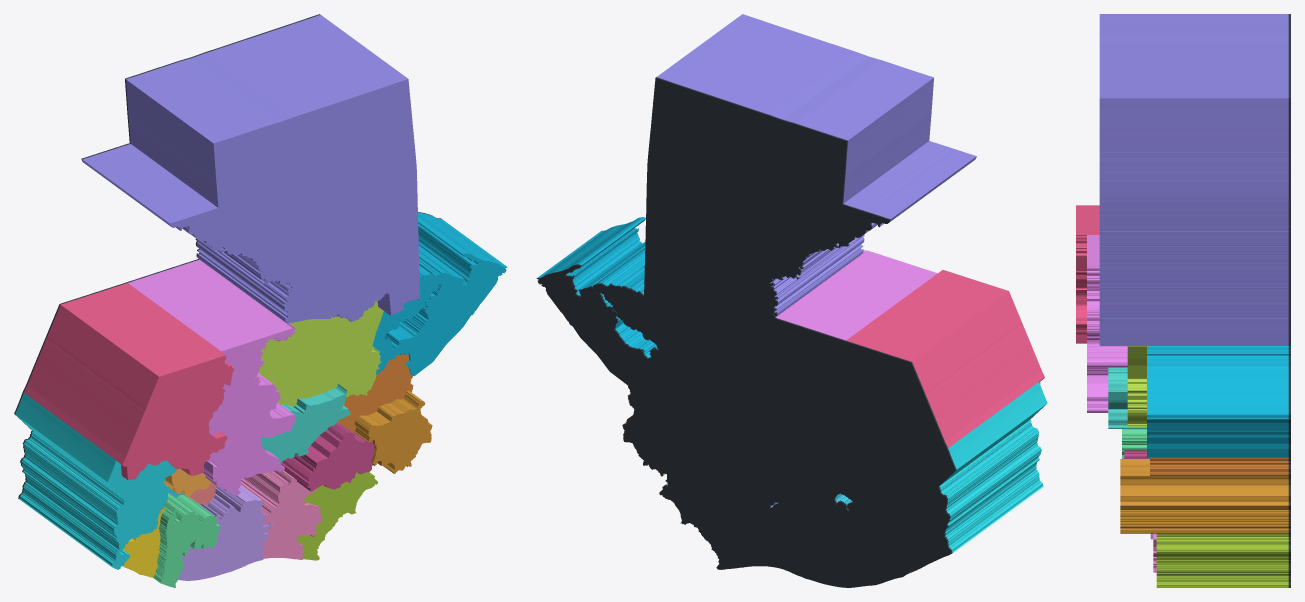
File: modelo_3d_indice_vulnerabilidad_ivst_multicolor.glb
The picture shows the model from 3 angles, left to right: view 1: azimuth 30°, elevation 25°; view 2: azimuth 150°, elevation 25°; view 3: azimuth 270°, elevation 25°; orthographic projection. The views are drawn at different scales.
Parts seen in each view (by area): view 1: depto_17_Petén, depto_13_Huehuetenango, depto_14_Quiché, depto_12_San_Marcos, depto_18_Izabal, depto_16_Alta_Verapaz, depto_05_Escuintla, depto_06_Santa_Rosa, depto_20_Chiquimula, depto_21_Jalapa, depto_10_Suchitepéquez, depto_15_Baja_Verapaz (+5 smaller); view 2: base_guatemala, depto_17_Petén, depto_13_Huehuetenango, depto_12_San_Marcos, depto_14_Quiché, depto_18_Izabal; view 3: depto_17_Petén, depto_18_Izabal, depto_20_Chiquimula, depto_22_Jutiapa, depto_14_Quiché, depto_19_Zacapa, depto_13_Huehuetenango, base_guatemala, depto_16_Alta_Verapaz, depto_15_Baja_Verapaz, depto_10_Suchitepéquez.
Boxes of the visible parts, left/top/right/bottom form: depto_17_Petén: left=82, top=14, right=420, bottom=323; depto_13_Huehuetenango: left=24, top=283, right=234, bottom=479; depto_14_Quiché: left=128, top=259, right=296, bottom=495; depto_12_San_Marcos: left=15, top=393, right=176, bottom=569; depto_18_Izabal: left=372, top=212, right=507, bottom=376; depto_16_Alta_Verapaz: left=258, top=301, right=383, bottom=407; depto_05_Escuintla: left=178, top=485, right=272, bottom=580; depto_06_Santa_Rosa: left=240, top=470, right=322, bottom=559; depto_20_Chiquimula: left=354, top=391, right=432, bottom=473; depto_21_Jalapa: left=280, top=423, right=374, bottom=491; depto_10_Suchitepéquez: left=154, top=493, right=220, bottom=587; depto_15_Baja_Verapaz: left=261, top=384, right=350, bottom=462; base_guatemala: left=536, top=77, right=956, bottom=587; depto_17_Petén: left=657, top=14, right=976, bottom=316; depto_13_Huehuetenango: left=846, top=270, right=1044, bottom=447; depto_12_San_Marcos: left=939, top=382, right=1047, bottom=552; depto_14_Quiché: left=776, top=250, right=937, bottom=340; depto_18_Izabal: left=537, top=217, right=657, bottom=357; depto_17_Petén: left=1099, top=14, right=1288, bottom=345; depto_18_Izabal: left=1147, top=346, right=1288, bottom=457; depto_20_Chiquimula: left=1120, top=459, right=1288, bottom=533; depto_22_Jutiapa: left=1156, top=533, right=1288, bottom=587; depto_14_Quiché: left=1087, top=235, right=1127, bottom=412; depto_19_Zacapa: left=1150, top=458, right=1288, bottom=475; depto_13_Huehuetenango: left=1076, top=205, right=1099, bottom=343; base_guatemala: left=1288, top=14, right=1290, bottom=587; depto_16_Alta_Verapaz: left=1127, top=346, right=1146, bottom=427; depto_15_Baja_Verapaz: left=1108, top=367, right=1146, bottom=428; depto_10_Suchitepéquez: left=1122, top=429, right=1146, bottom=458.
Size of the model in its own units: 150 by 163 by 60.6.
